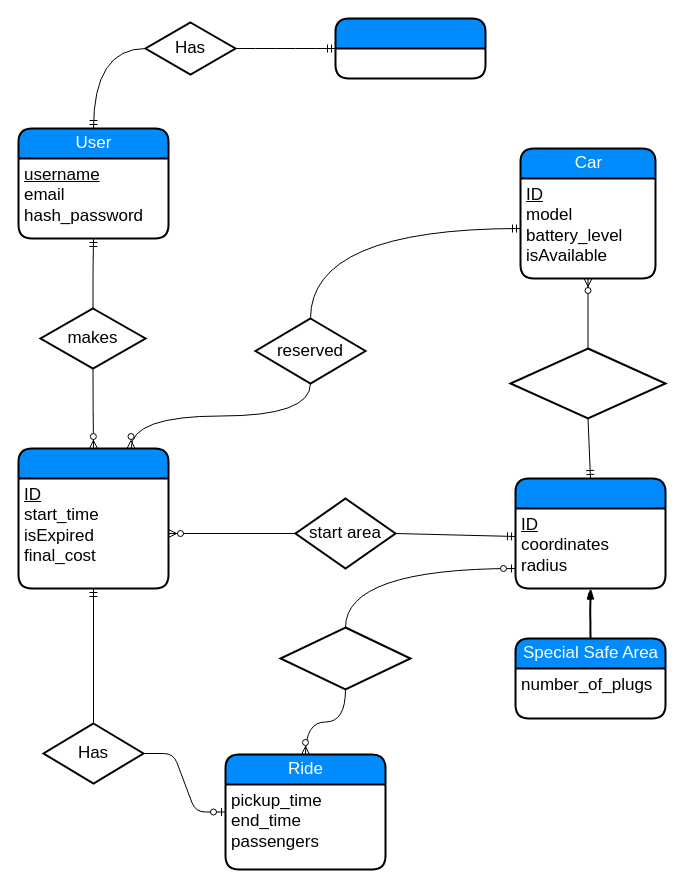
Image size: 683x887. Some labels were removed from this diagram. Here are the shapes that lost their labels. From the top down, the box of each, then its label:
(334, 17, 486, 79): Payment Info
(509, 347, 666, 419): available_there
(17, 447, 169, 589): Reservation
(514, 477, 666, 589): Safe Area
(279, 626, 411, 690): release_area
